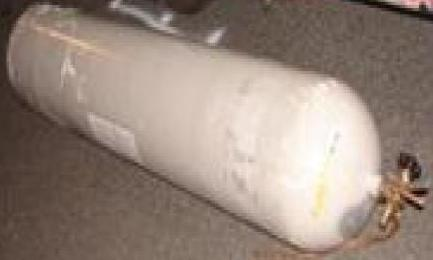cylinder: (1, 1, 433, 260)
